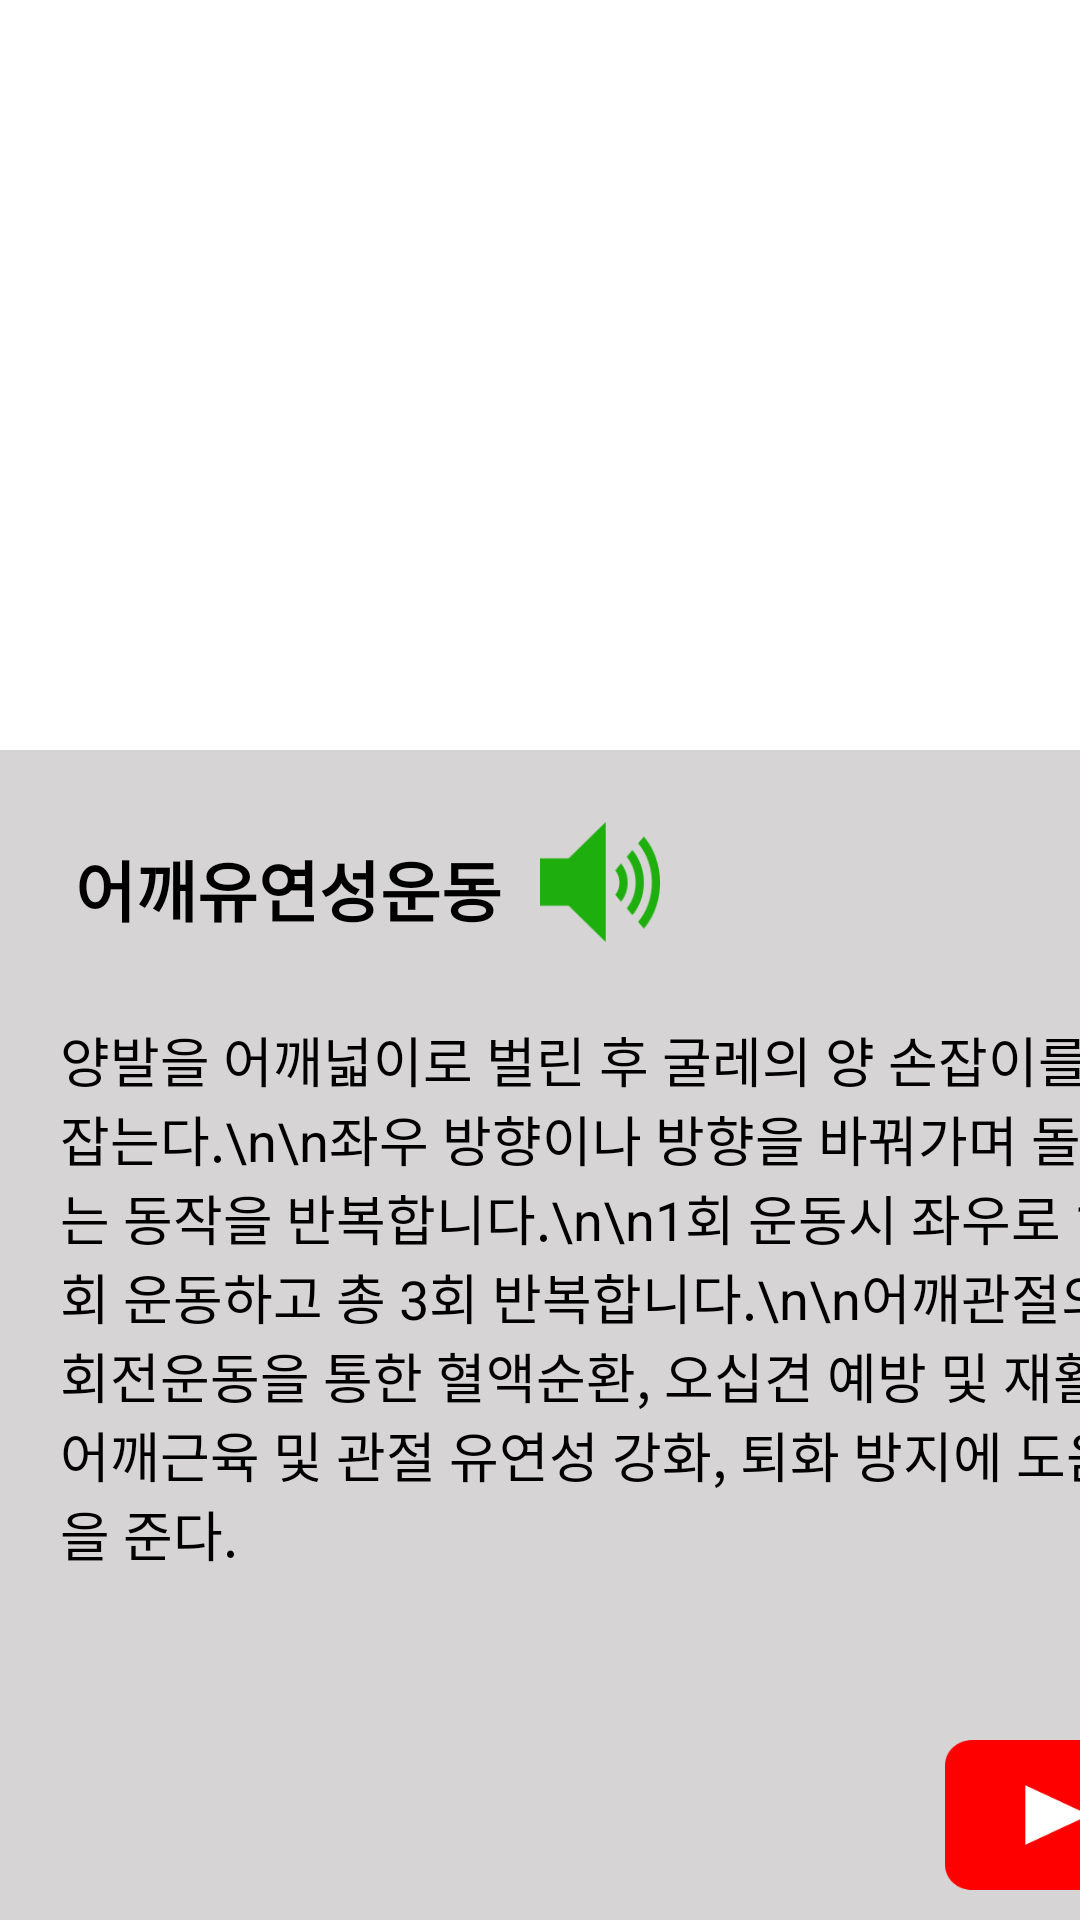

Where icons sit on this 1080×1920 app screen, as bbox(x1, y1, x2, y2):
sound: bbox(540, 822, 660, 942)
